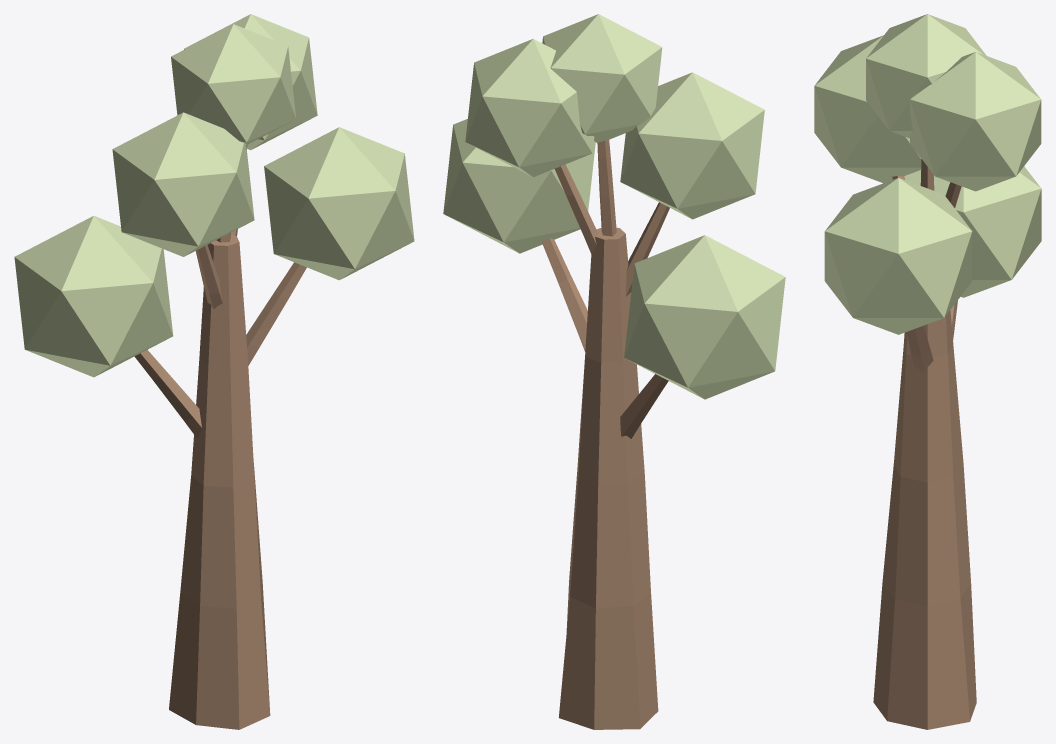
File: 03_Tree_Large.glb
The picture shows the model from 3 angles, left to right: view 1: azimuth 30°, elevation 25°; view 2: azimuth 150°, elevation 25°; view 3: azimuth 270°, elevation 25°; orthographic projection. The views are drawn at different scales.
Visible parts, largest first — view 1: Tree_Large_Trunk, Tree_Large_Foliage1, Tree_Large_Foliage2, Tree_Large_Foliage3, Tree_Large_Foliage5, Tree_Large_Foliage4, Tree_Large_Branch2, Tree_Large_Branch1, Tree_Large_Branch3; view 2: Tree_Large_Trunk, Tree_Large_Foliage1, Tree_Large_Foliage3, Tree_Large_Foliage4, Tree_Large_Foliage2, Tree_Large_Foliage5, Tree_Large_Branch2, Tree_Large_Branch5, Tree_Large_Branch1, Tree_Large_Branch4, Tree_Large_Branch3; view 3: Tree_Large_Trunk, Tree_Large_Foliage2, Tree_Large_Foliage4, Tree_Large_Foliage3, Tree_Large_Foliage1, Tree_Large_Foliage5, Tree_Large_Branch2.
Part boxes in pixels (bbox=[...]): Tree_Large_Trunk: bbox=[169, 234, 270, 729]; Tree_Large_Foliage1: bbox=[14, 216, 173, 377]; Tree_Large_Foliage2: bbox=[264, 127, 414, 280]; Tree_Large_Foliage3: bbox=[112, 112, 254, 256]; Tree_Large_Foliage5: bbox=[171, 24, 296, 144]; Tree_Large_Foliage4: bbox=[184, 14, 317, 150]; Tree_Large_Branch2: bbox=[246, 262, 306, 365]; Tree_Large_Branch1: bbox=[134, 350, 201, 438]; Tree_Large_Branch3: bbox=[195, 245, 222, 308]; Tree_Large_Trunk: bbox=[558, 227, 658, 729]; Tree_Large_Foliage1: bbox=[624, 235, 785, 399]; Tree_Large_Foliage3: bbox=[620, 72, 764, 219]; Tree_Large_Foliage4: bbox=[465, 38, 594, 177]; Tree_Large_Foliage2: bbox=[443, 119, 595, 253]; Tree_Large_Foliage5: bbox=[542, 14, 662, 143]; Tree_Large_Branch2: bbox=[542, 238, 587, 351]; Tree_Large_Branch5: bbox=[597, 140, 616, 236]; Tree_Large_Branch1: bbox=[620, 374, 668, 438]; Tree_Large_Branch4: bbox=[555, 164, 598, 253]; Tree_Large_Branch3: bbox=[625, 202, 669, 296]; Tree_Large_Trunk: bbox=[873, 310, 976, 729]; Tree_Large_Foliage2: bbox=[824, 177, 972, 334]; Tree_Large_Foliage4: bbox=[910, 52, 1041, 191]; Tree_Large_Foliage3: bbox=[814, 35, 921, 183]; Tree_Large_Foliage1: bbox=[904, 166, 1041, 297]; Tree_Large_Foliage5: bbox=[866, 14, 986, 138]; Tree_Large_Branch2: bbox=[907, 325, 933, 372].
Size of the model in its own units: 1.71 by 3.2 by 0.9425.
